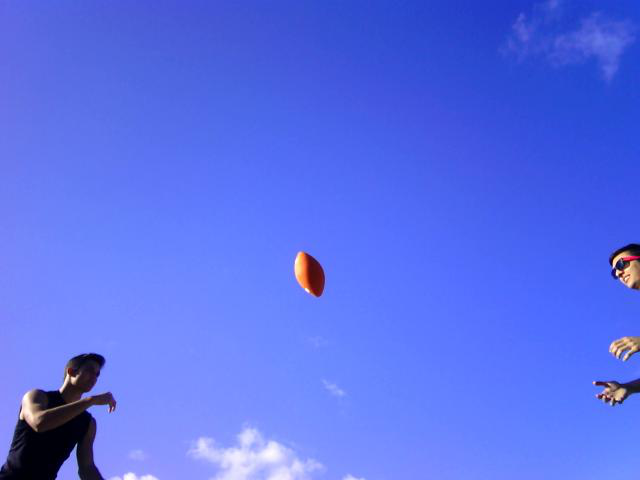football: (289, 247, 329, 302)
